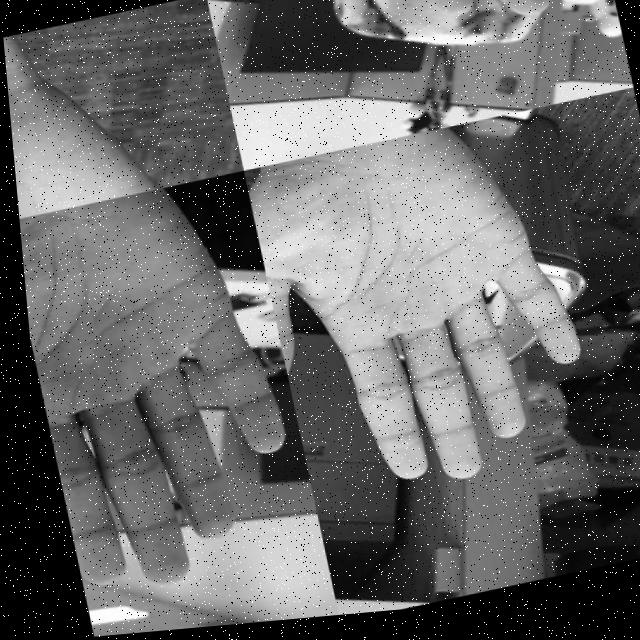hand: (237, 115, 601, 521), (13, 172, 307, 604), (1, 0, 228, 220), (261, 0, 617, 79)
